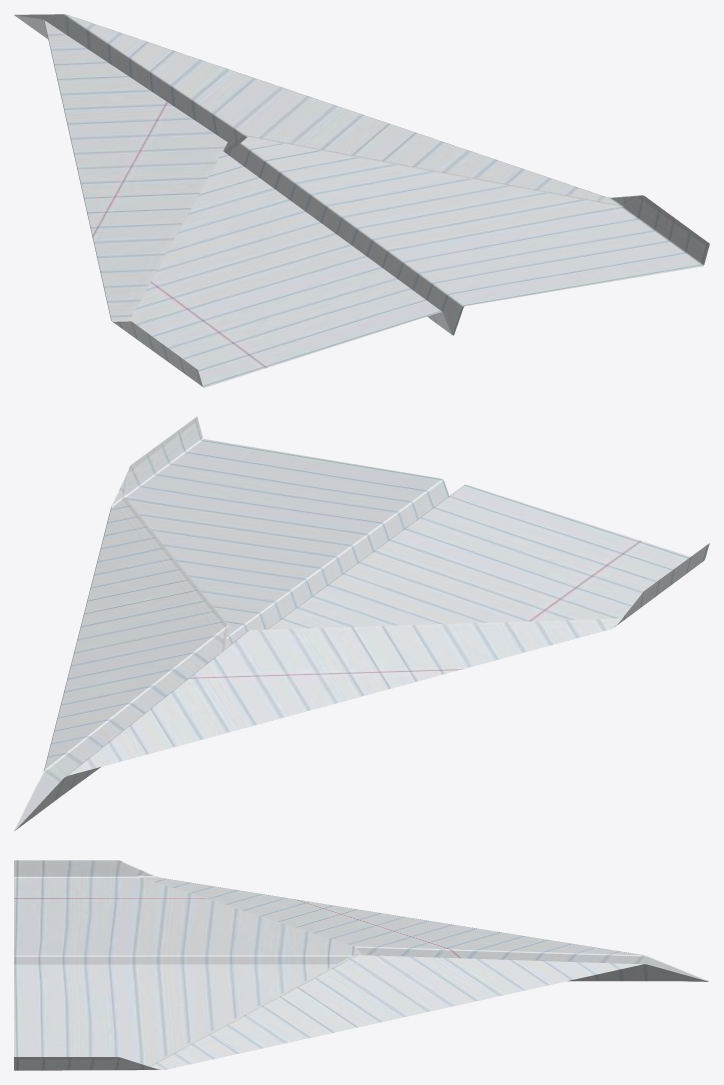
The picture shows the model from 3 angles, top to bottom: view 1: azimuth 30°, elevation 25°; view 2: azimuth 150°, elevation 25°; view 3: azimuth 270°, elevation 25°; orthographic projection. The views are drawn at different scales.
Parts seen in each view (by area): view 1: paper_plane__Plane.002; view 2: paper_plane__Plane.002; view 3: paper_plane__Plane.002.
Part boxes in pixels (<box>): paper_plane__Plane.002: <box>14,14,709,387</box>; paper_plane__Plane.002: <box>14,416,709,831</box>; paper_plane__Plane.002: <box>14,860,709,1070</box>.
Bounding box in the file's own units: 3.98 × 0.2938 × 5.91.
Materials: 1 (1 with a texture image).
